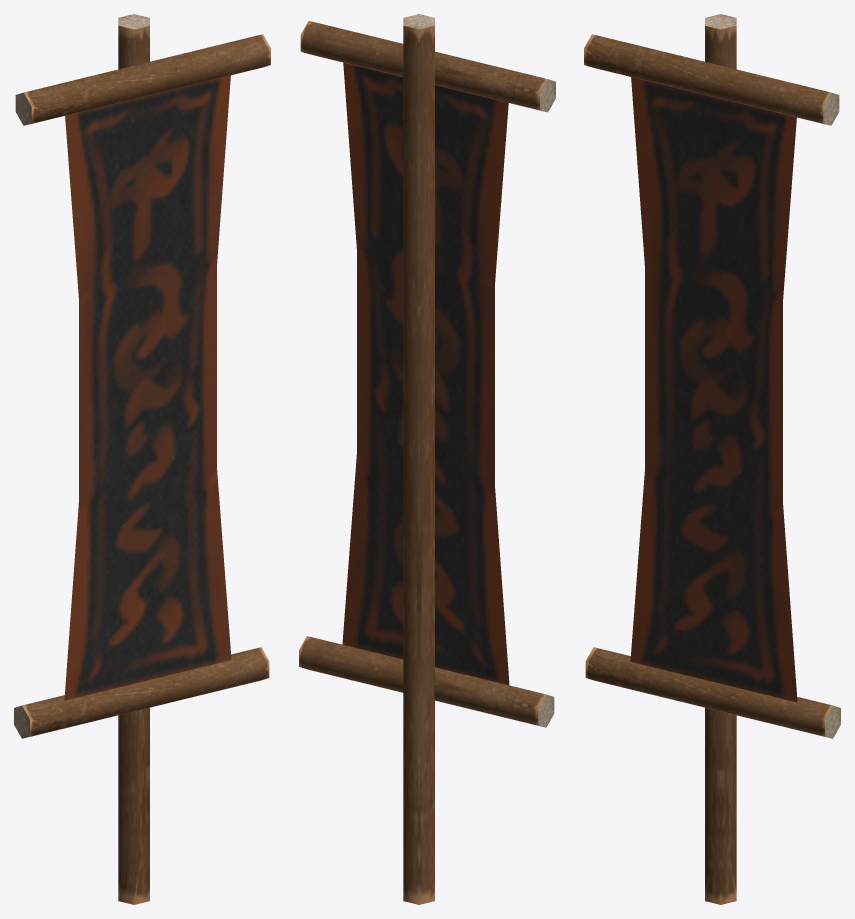
Rendered from FH_Env_obj_03.FBX.
3 renders of one model, left to right at view 1: azimuth 30°, elevation 25°; view 2: azimuth 150°, elevation 25°; view 3: azimuth 330°, elevation 25°, orthographic.
Parts seen in each view (by area): view 1: Object09, Object147, Object03, Object148; view 2: Object09, Object03, Object148, Object147; view 3: Object09, Object147, Object03, Object148.
Boxes of the visible parts, bbox=[...] form: Object09: bbox=[64, 75, 231, 700]; Object147: bbox=[15, 34, 270, 125]; Object03: bbox=[118, 14, 149, 904]; Object148: bbox=[14, 647, 269, 738]; Object09: bbox=[342, 62, 509, 685]; Object03: bbox=[403, 14, 434, 904]; Object148: bbox=[299, 636, 554, 727]; Object147: bbox=[300, 21, 555, 112]; Object09: bbox=[630, 77, 797, 702]; Object147: bbox=[584, 34, 839, 125]; Object03: bbox=[705, 14, 736, 904]; Object148: bbox=[585, 647, 840, 738].
Size of the model in its own units: 1.37 by 4.78 by 0.2487.
